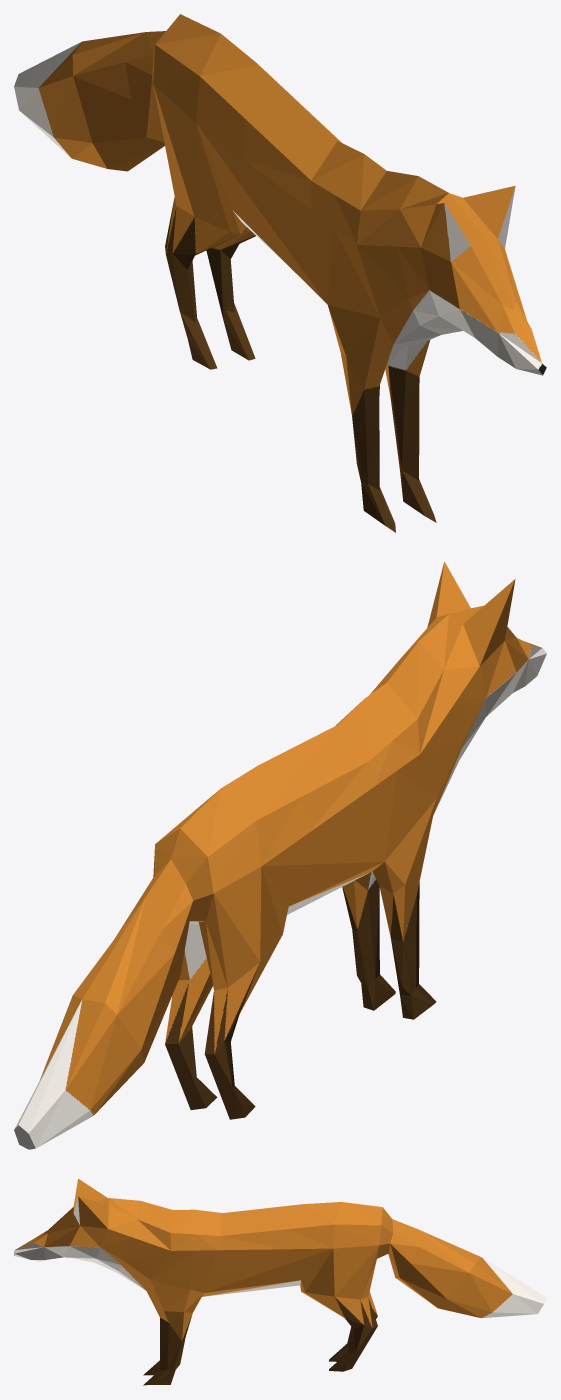
3 views of the same model, one above another, from view 1: azimuth 30°, elevation 25°; view 2: azimuth 150°, elevation 25°; view 3: azimuth 270°, elevation 25° (orthographic). The views are drawn at different scales.
Parts seen in each view (by area): view 1: fox1; view 2: fox1; view 3: fox1.
Part boxes in pixels (x1=…): fox1: x1=14, y1=14, x2=546, y2=532; fox1: x1=14, y1=561, x2=546, y2=1149; fox1: x1=14, y1=1178, x2=546, y2=1385.
Size of the model in its own units: 6.91 by 35.28 by 88.2.
Materials: 1 (1 with a texture image).
